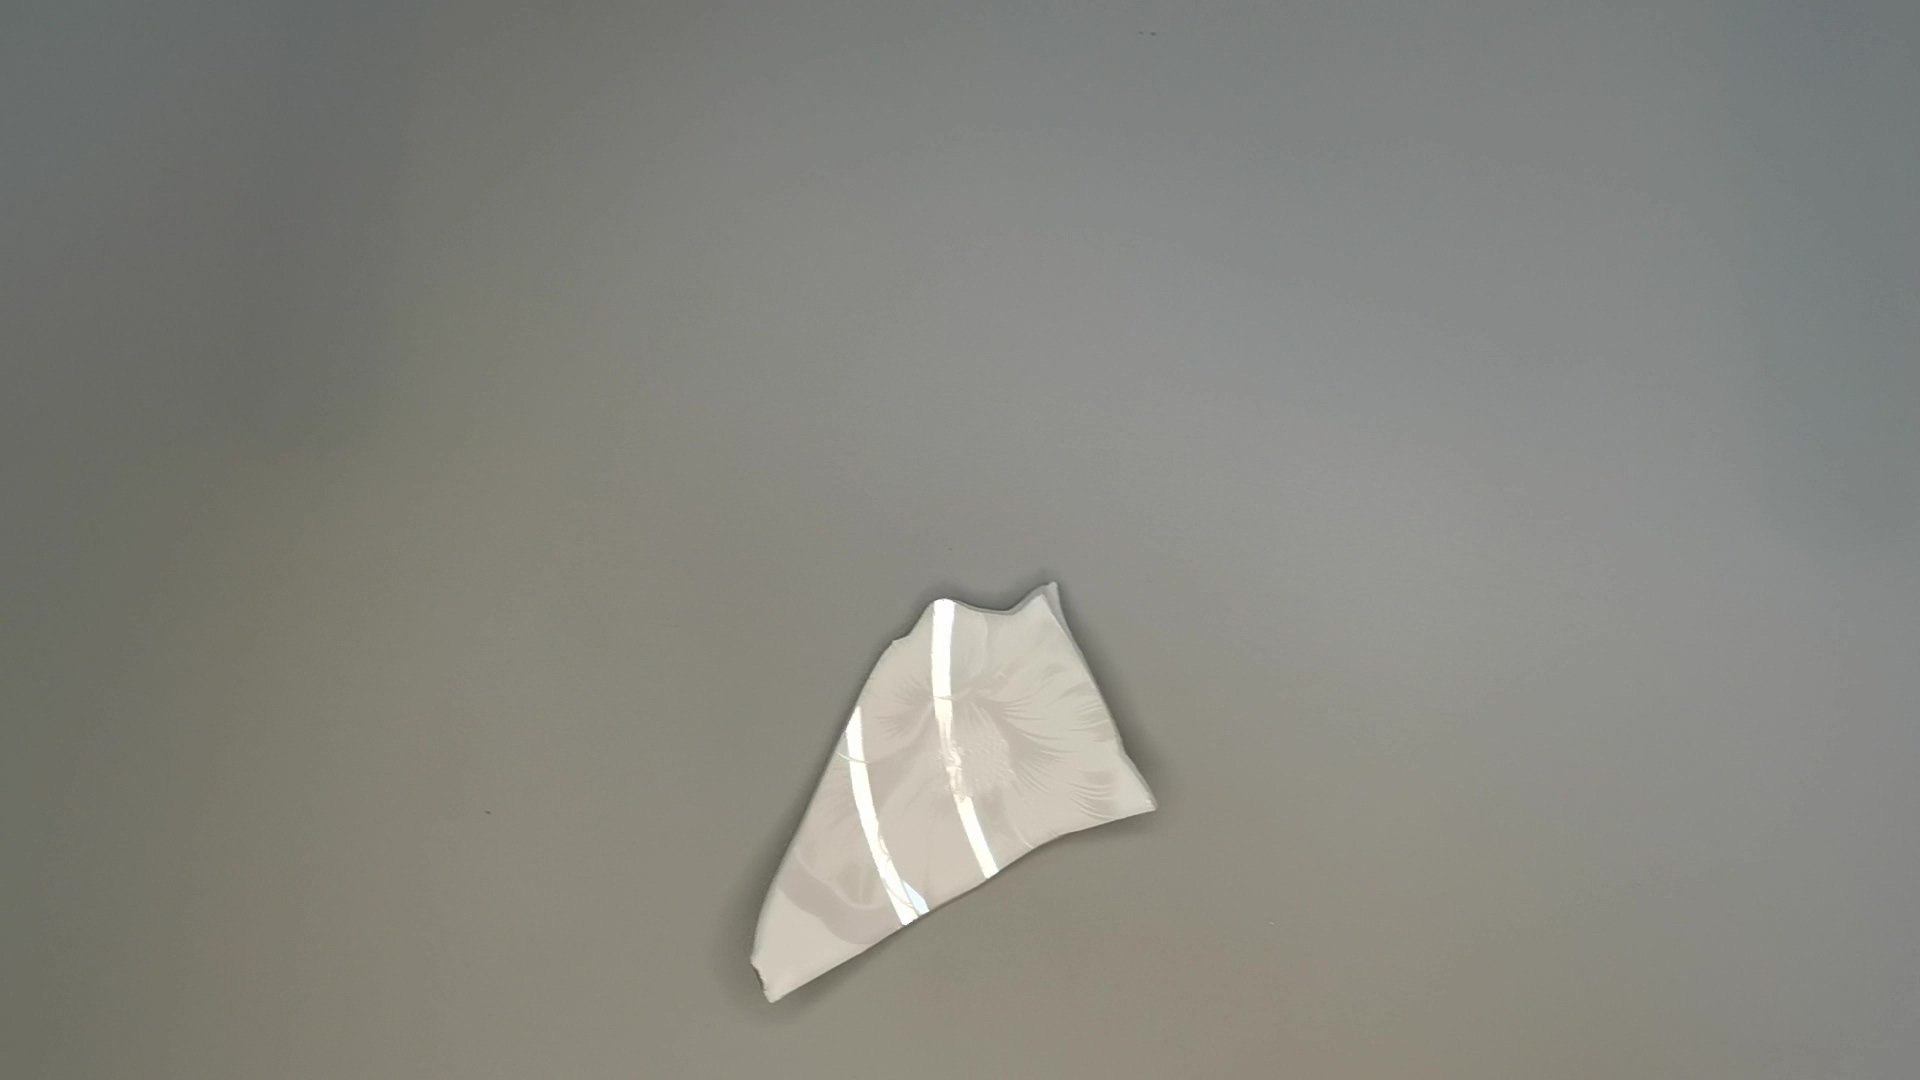ceramic: (733, 571, 1178, 1006)
